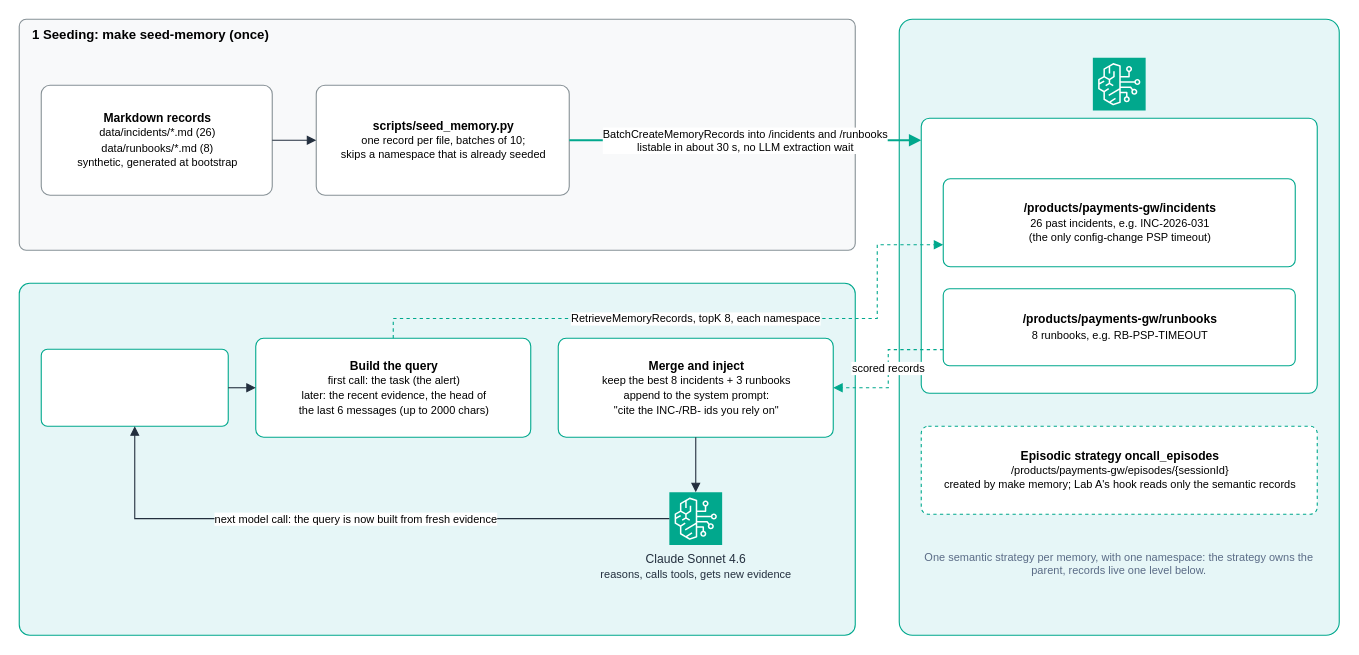
The diagram is 1359 pixels wide and 655 high, and some of its shapes have lost their labels. The box of each missing label's shape, as (x1, y1, x2, y2) in pixels:
2 Retrieval: MemoryHook, before EACH model call: (18, 282, 855, 635)
AgentCore Memory: dezerv_payments_oncall: (898, 18, 1339, 635)
BeforeModelCallEvent Strands hook fires: (40, 348, 228, 426)
Semantic strategy payments_facts namespace /products/payments-gw: (920, 117, 1317, 393)
